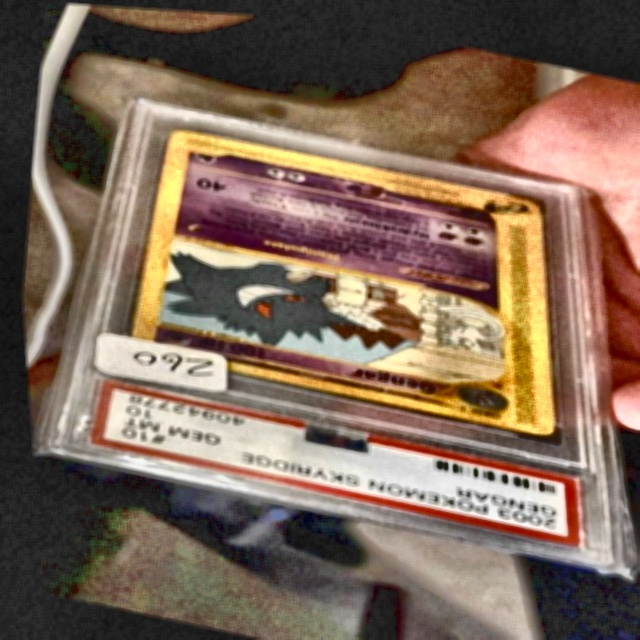card: (122, 127, 553, 431)
